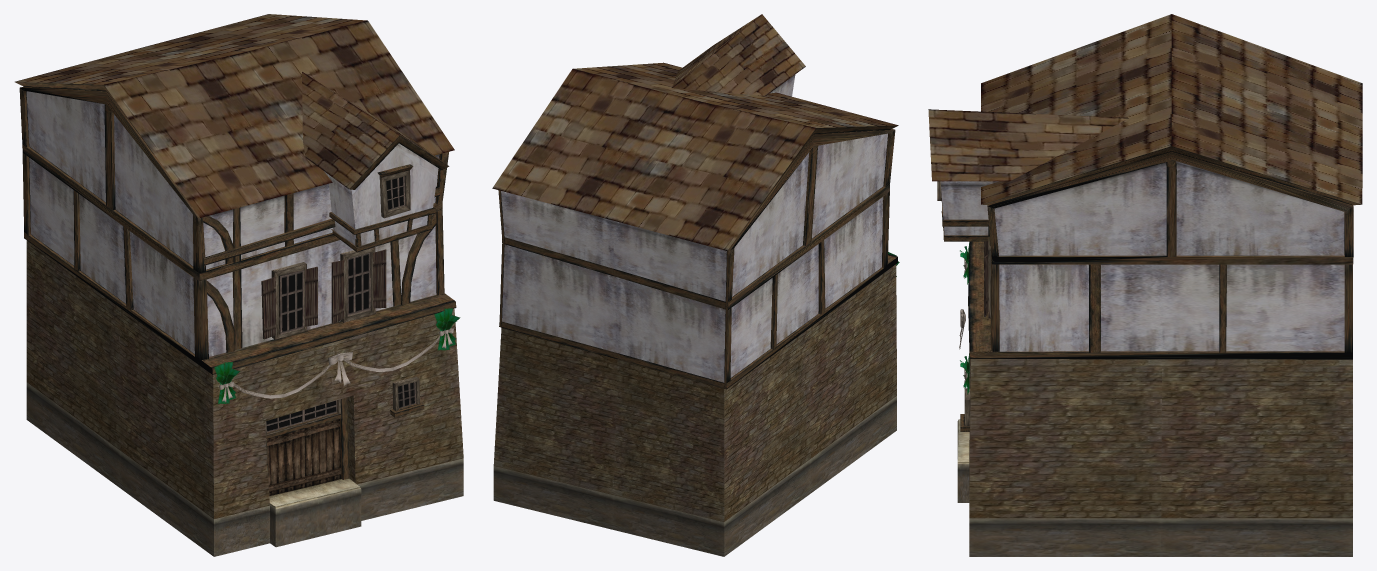
The model's file is english_k.fbx.
3 views of the same model, side by side, from view 1: azimuth 30°, elevation 25°; view 2: azimuth 150°, elevation 25°; view 3: azimuth 270°, elevation 25° (orthographic). The views are drawn at different scales.
Parts seen in each view (by area): view 1: building_shell, dormer, building_shell9, door_left, door_right, window_01.001, window_01, trim3, building_shell1, trim.001, window_04, window_05 (+12 smaller); view 2: building_shell, dormer; view 3: building_shell, dormer, building_shell9.
Boxes of the visible parts, x1,y1,x2,y2 form: building_shell: [15, 14, 463, 556]; dormer: [302, 72, 449, 245]; building_shell9: [269, 487, 361, 547]; door_left: [267, 428, 304, 495]; door_right: [304, 419, 341, 487]; window_01.001: [280, 270, 303, 334]; window_01: [347, 253, 370, 315]; trim3: [203, 186, 439, 265]; building_shell1: [269, 478, 359, 506]; trim.001: [232, 207, 242, 349]; window_04: [340, 247, 375, 322]; window_05: [271, 262, 307, 339]; building_shell: [492, 62, 898, 556]; dormer: [671, 14, 805, 96]; building_shell: [968, 14, 1362, 556]; dormer: [928, 109, 1128, 235]; building_shell9: [957, 419, 969, 502].
Bounding box in the file's own units: 3699 × 5391 × 5141.
2 materials, 2 textured.
